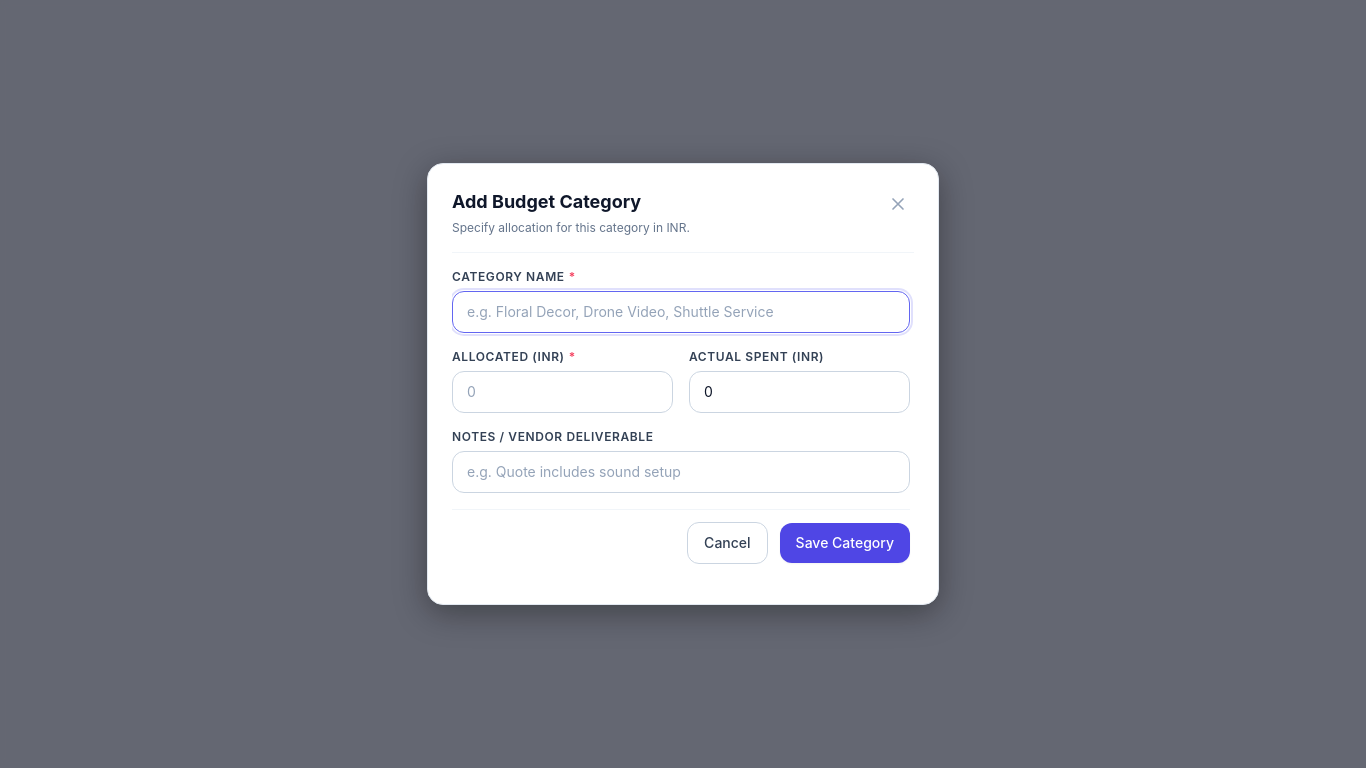
Test: AddCategoryModal component › shows error when category name is missing
Click the button "Save Category".
click(845, 543)  # box [780, 523, 910, 563]
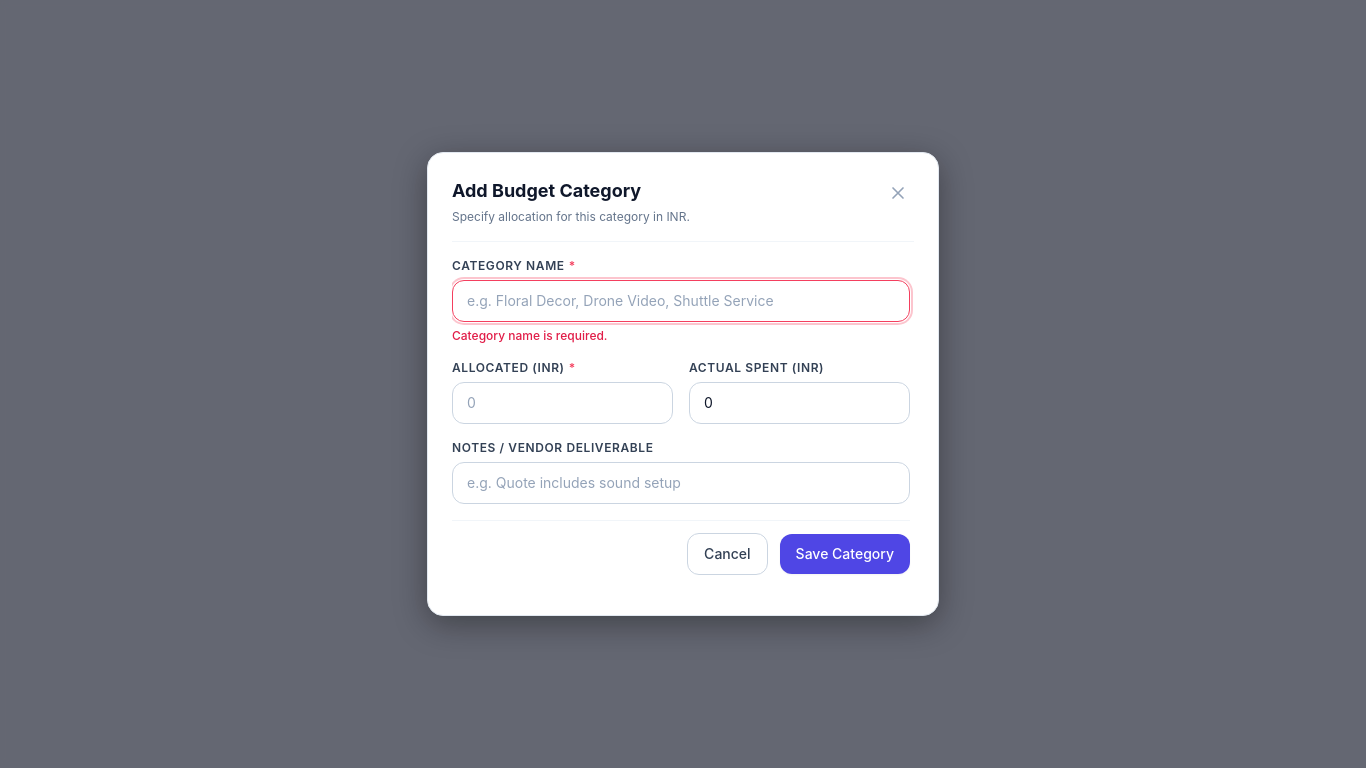
expect the text "Category name is required." is shown: met, box [452, 328, 608, 343]
